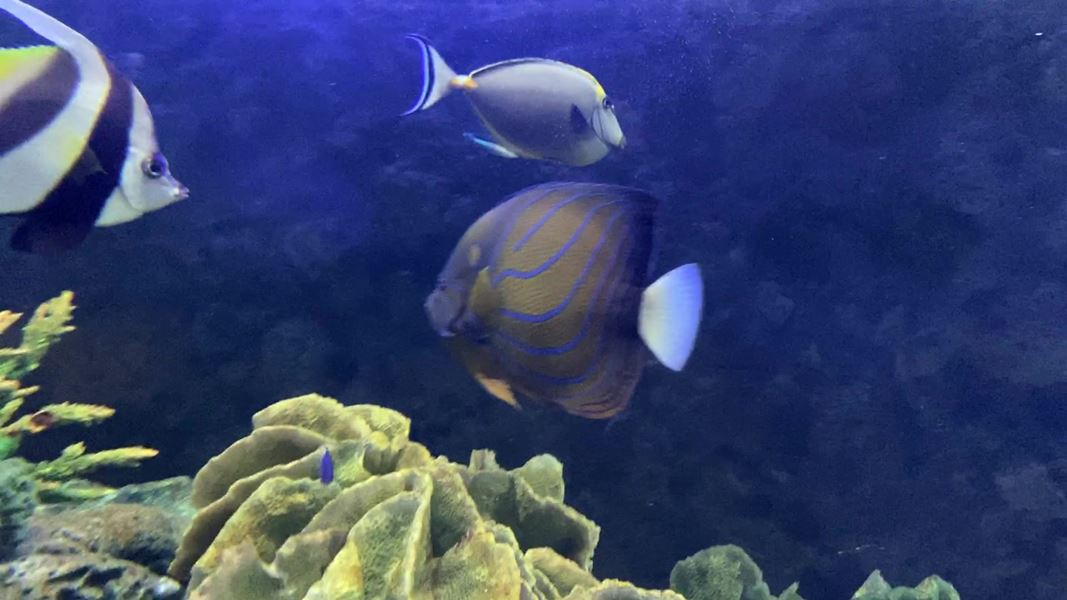Blue ring angelfish: (386, 169, 735, 442)
